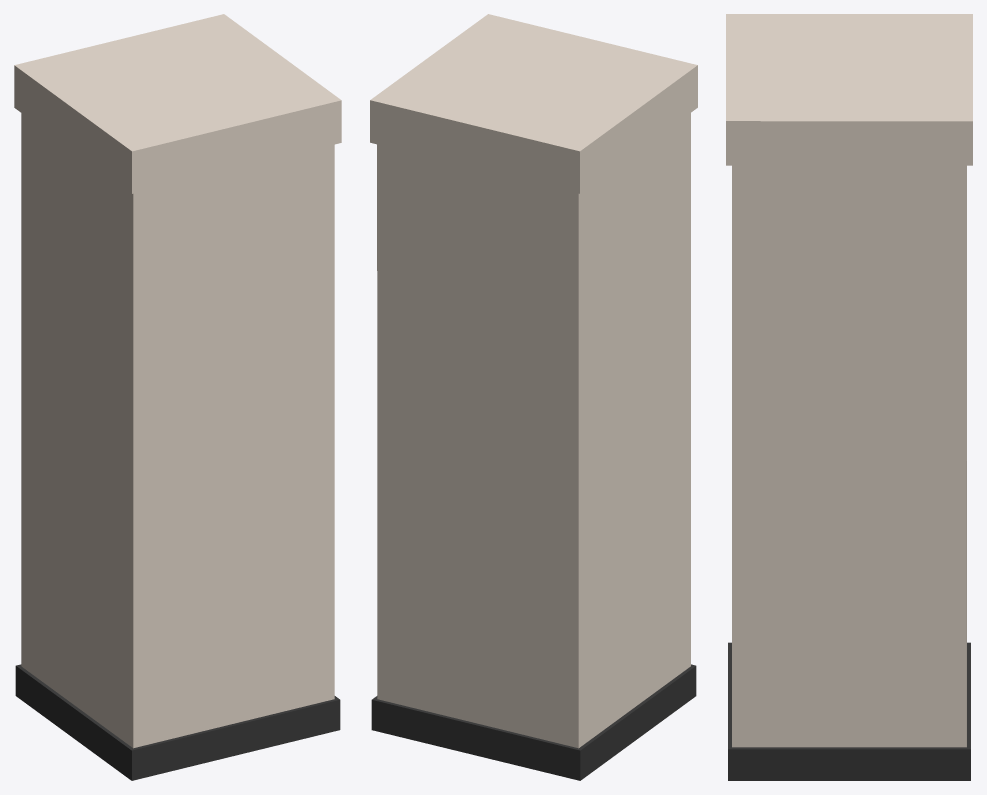
The model's file is SCH0110028.fbx.
3 renders of one model, left to right at view 1: azimuth 30°, elevation 25°; view 2: azimuth 150°, elevation 25°; view 3: azimuth 270°, elevation 25°, orthographic. The views are drawn at different scales.
Parts seen in each view (by area): view 1: smSCH0110028; view 2: smSCH0110028; view 3: smSCH0110028.
Part boxes in pixels (bbox=[...]): smSCH0110028: bbox=[14, 14, 341, 780]; smSCH0110028: bbox=[370, 14, 697, 780]; smSCH0110028: bbox=[726, 14, 972, 780].
Bounding box in the file's own units: 139 × 398 × 135.
Materials: 1 (1 with a texture image).
